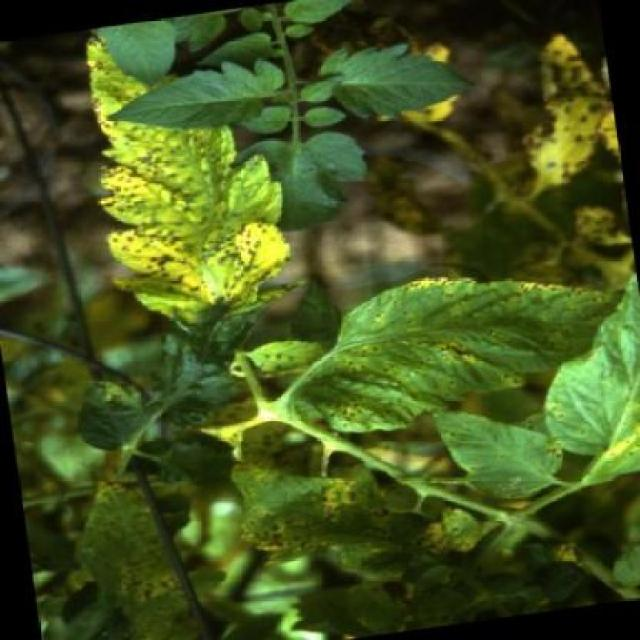Septoria leaf spot: (234, 240, 635, 465), (74, 18, 312, 370), (411, 393, 586, 522)
